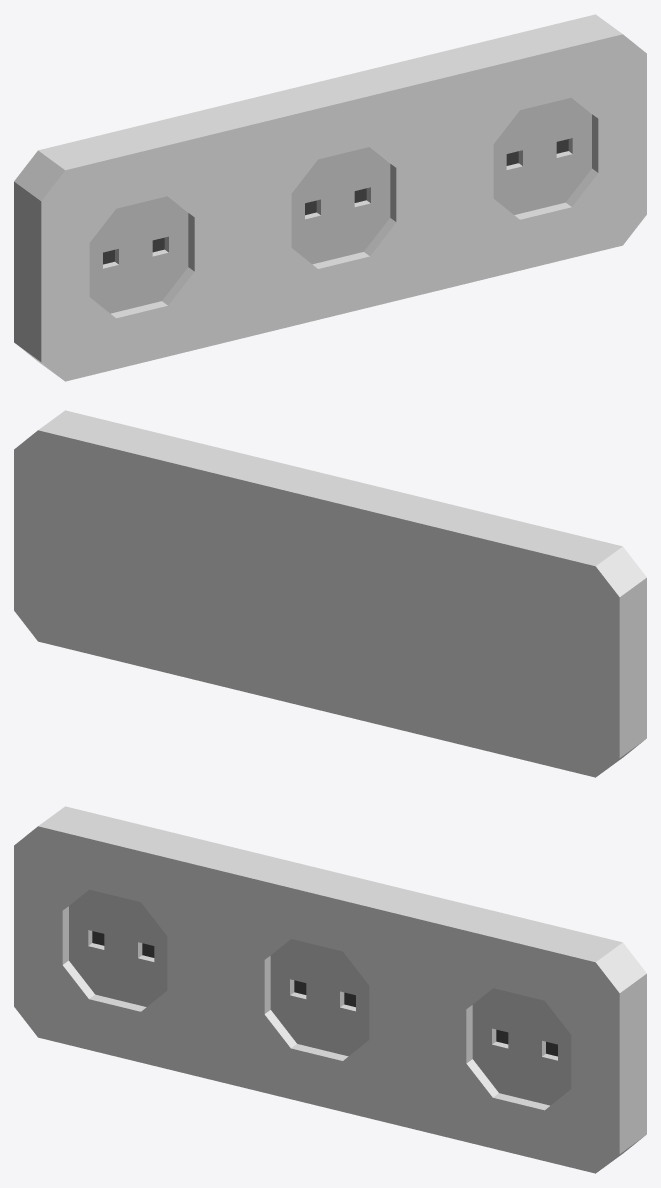
Rendered from Socket6_C1.fbx.
The picture shows the model from 3 angles, top to bottom: view 1: azimuth 30°, elevation 25°; view 2: azimuth 150°, elevation 25°; view 3: azimuth 330°, elevation 25°; orthographic projection.
Parts seen in each view (by area): view 1: Socket6_C1; view 2: Socket6_C1; view 3: Socket6_C1.
Part boxes in pixels (x1,y1,x2,y2): Socket6_C1: (14, 14, 646, 381); Socket6_C1: (14, 410, 646, 777); Socket6_C1: (14, 806, 646, 1173).
Size of the model in its own units: 25.33 by 8.44 by 1.97.
